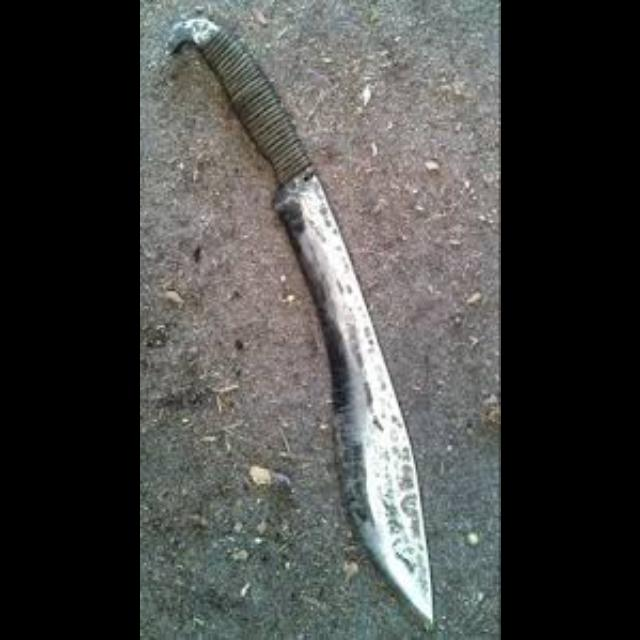Knife: (162, 15, 434, 627)
